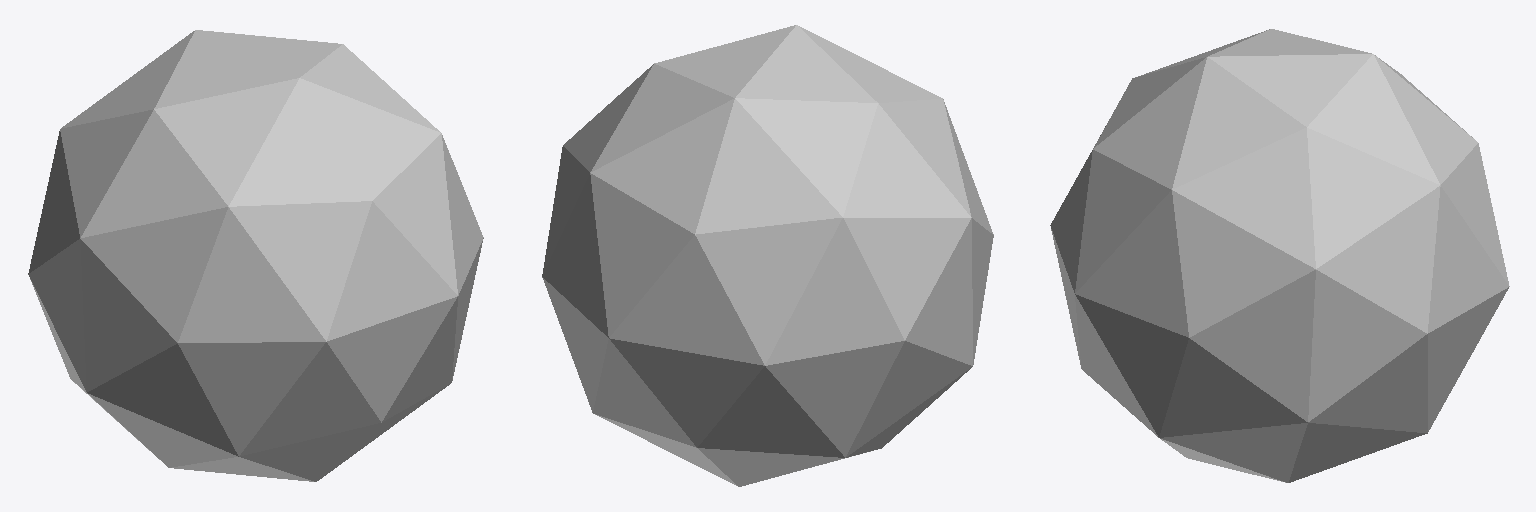
File: PentaKisDodecahedron.obj
The picture shows the model from 3 angles: view 1: azimuth 30°, elevation 25°; view 2: azimuth 150°, elevation 25°; view 3: azimuth 270°, elevation 25°; orthographic projection.
Visible parts, largest first — view 1: PentaKisDodecahedron; view 2: PentaKisDodecahedron; view 3: PentaKisDodecahedron.
Boxes of the visible parts, <box> form: PentaKisDodecahedron: <box>28,30,483,481</box>; PentaKisDodecahedron: <box>542,25,993,486</box>; PentaKisDodecahedron: <box>1050,29,1509,482</box>.
Size of the model in its own units: 1.95 by 2 by 2.05.